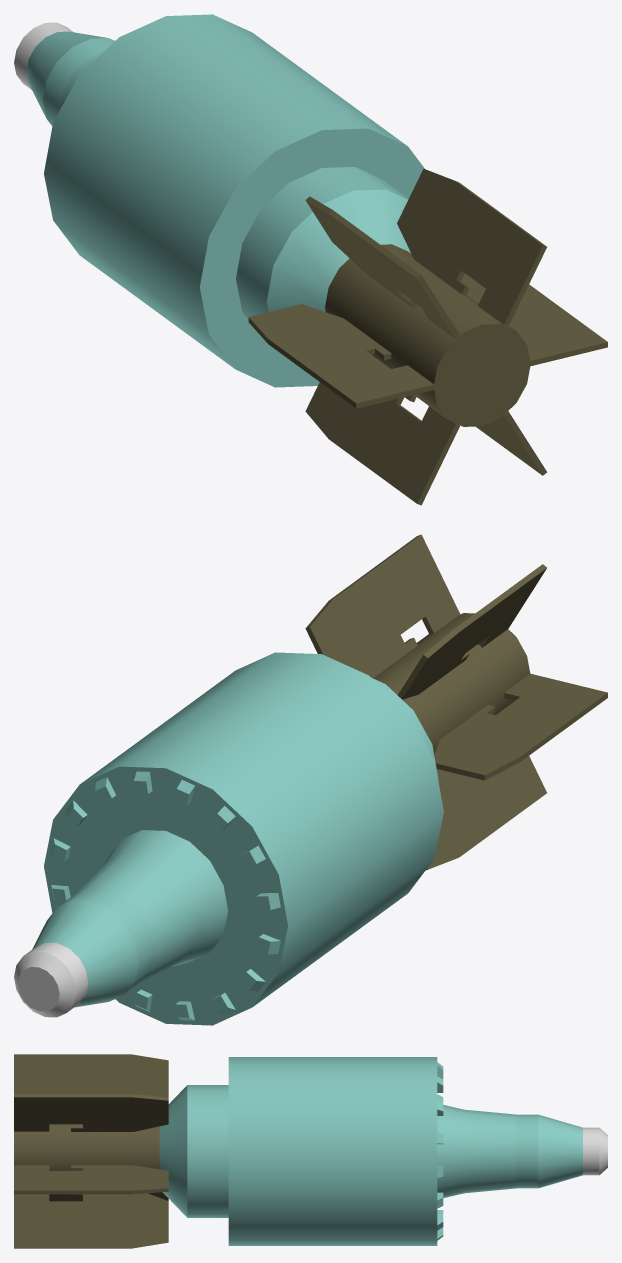
3 renders of one model, top to bottom at view 1: azimuth 30°, elevation 25°; view 2: azimuth 150°, elevation 25°; view 3: azimuth 270°, elevation 25°, orthographic. The views are drawn at different scales.
Visible parts, largest first — view 1: Bullet; view 2: Bullet; view 3: Bullet.
Boxes of the visible parts, bbox=[...] form: Bullet: bbox=[14, 14, 607, 505]; Bullet: bbox=[14, 534, 607, 1025]; Bullet: bbox=[14, 1054, 607, 1248].
Size of the model in its own units: 97.83 by 95 by 299.
